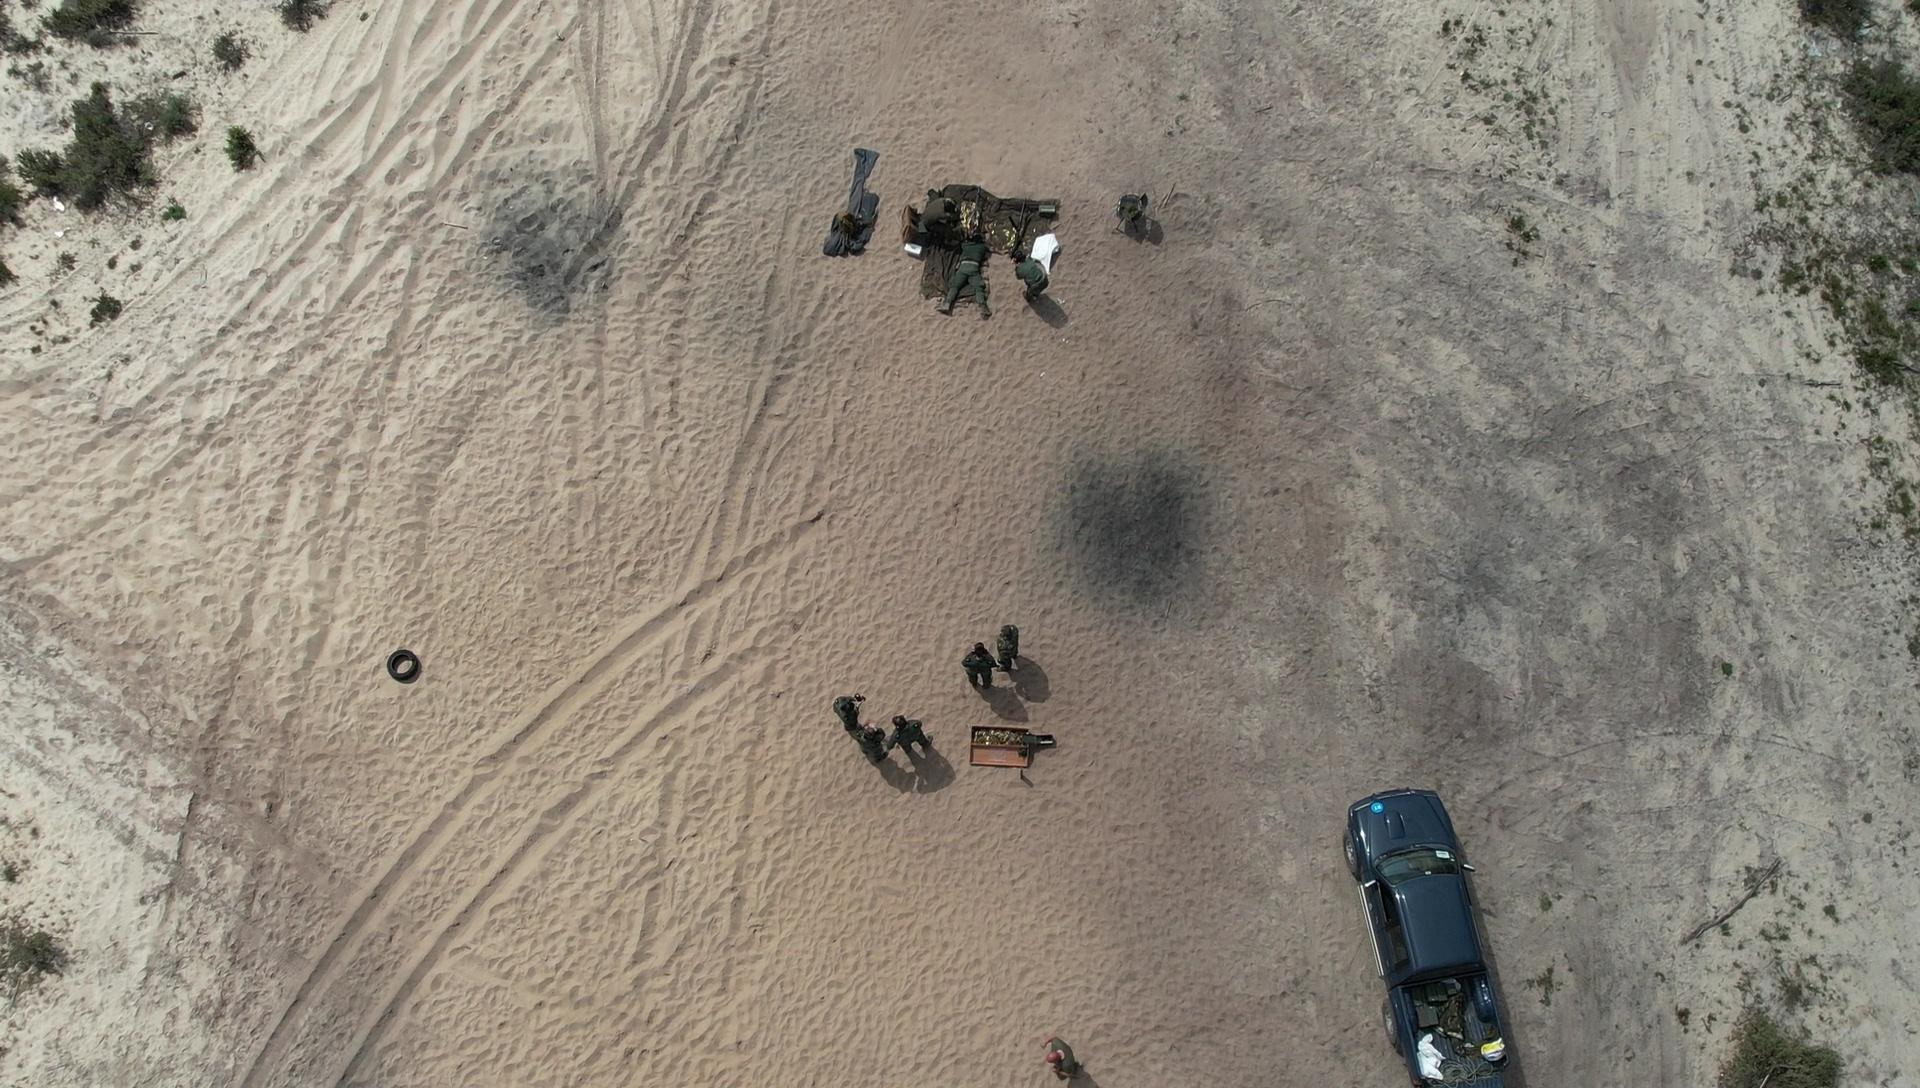Soldier: (928, 204, 992, 320), (1011, 222, 1067, 318), (910, 189, 989, 255), (874, 710, 947, 775), (989, 626, 1036, 688), (1035, 1037, 1098, 1077), (855, 713, 898, 768), (963, 642, 1000, 698), (835, 684, 866, 742)
